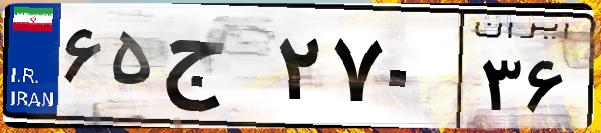0: (385, 28, 445, 110)
2: (270, 28, 330, 110)
3: (475, 38, 525, 113)
5: (110, 28, 158, 98)
6: (57, 26, 110, 100), (525, 38, 570, 115)
7: (330, 28, 385, 110)
ج: (158, 20, 270, 120)
